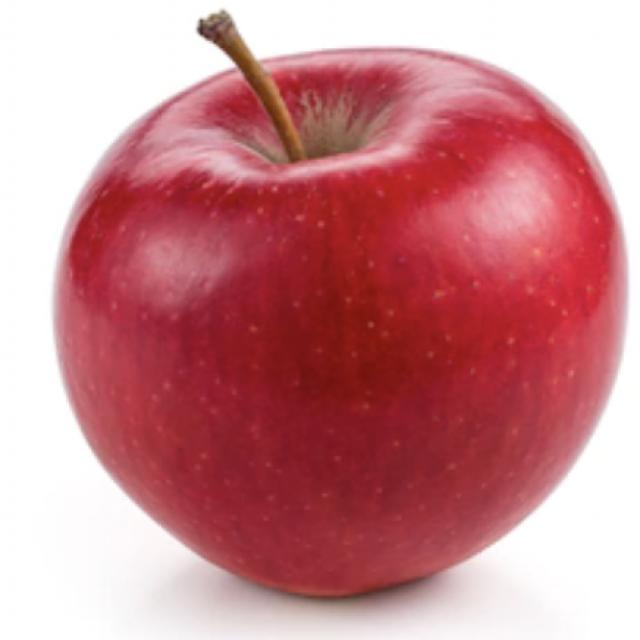Fresh Apple: (52, 30, 623, 602)
